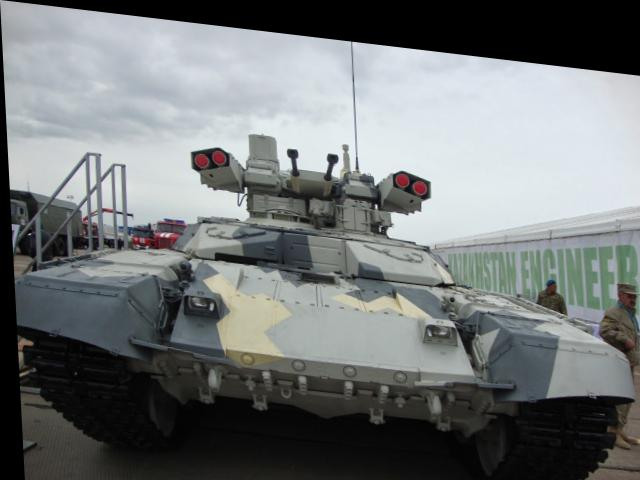other: (586, 251, 640, 346), (524, 249, 565, 313)
tank: (8, 194, 634, 480)
